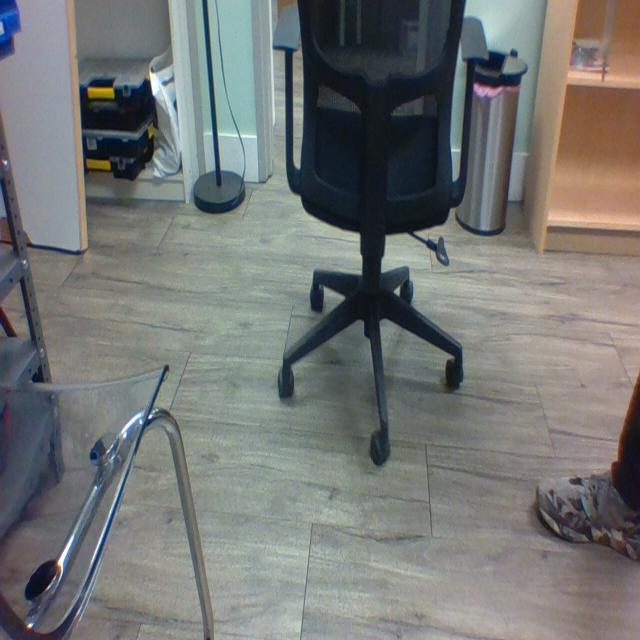black-chair: (268, 0, 479, 458)
